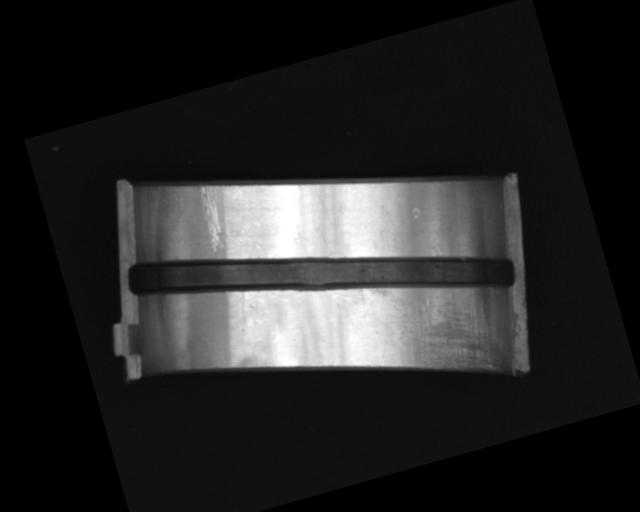bruise: (409, 206, 421, 219)
gap: (121, 165, 518, 387)
nick: (192, 181, 229, 255), (229, 289, 254, 333)
scratch: (367, 256, 513, 401)
